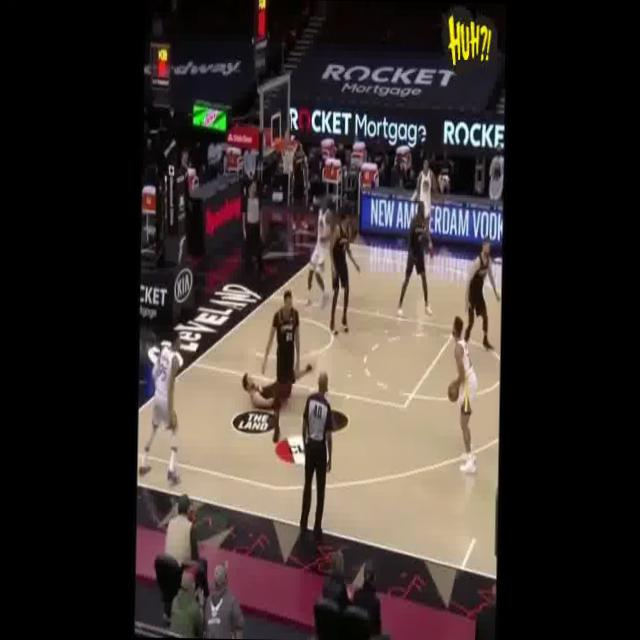ball-handler: (442, 304, 488, 480)
